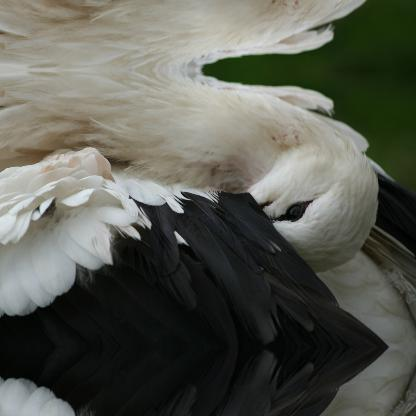Bird: (0, 68, 415, 346), (0, 0, 415, 70), (0, 346, 415, 415)
